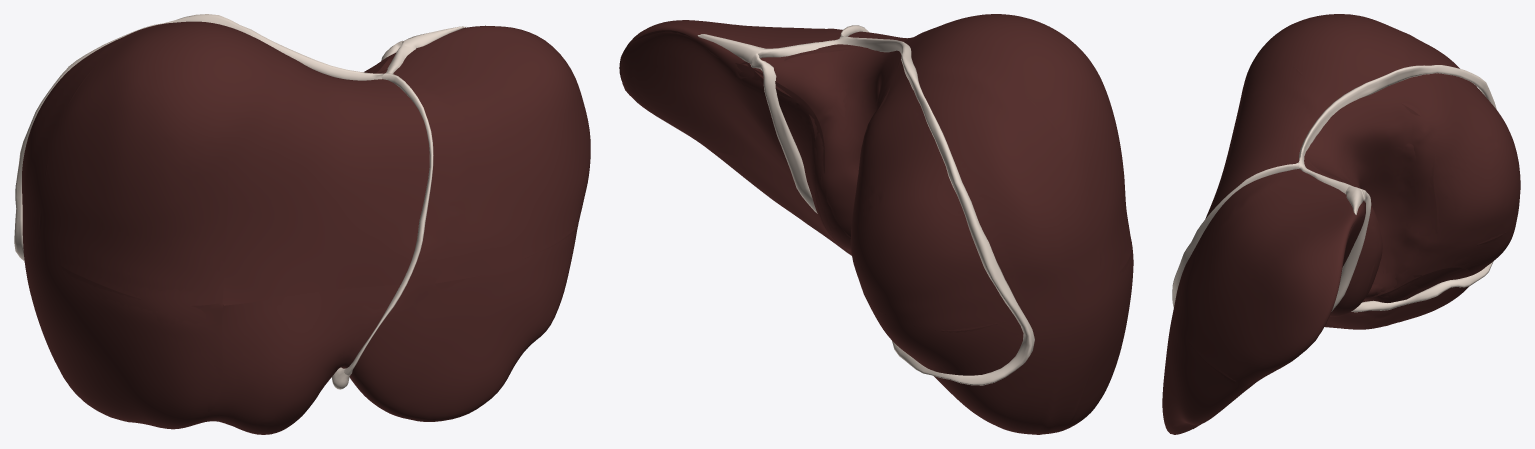
Rendered from liver-female.glb.
3 renders of one model, left to right at view 1: azimuth 30°, elevation 25°; view 2: azimuth 150°, elevation 25°; view 3: azimuth 270°, elevation 25°, orthographic. The views are drawn at different scales.
Visible parts, largest first — view 1: VH_F_capsule_of_the_liver, VH_F_left_superomedial_segment1, VH_F_left_inferomedial_segment, VH_F_right_anterosuperior_segment, VH_F_right_anteroinferior_segment, VH_F_coronary_ligament_of_liver, VH_F_left_superomedial_segment, VH_F_falciform_ligament, VH_F_left_anterolateral_segment; view 2: VH_F_capsule_of_the_liver, VH_F_bare_area_of_liver, VH_F_left_superomedial_segment, VH_F_coronary_ligament_of_liver, VH_F_diaphragmatic_surface_of_liver, VH_F_caudate_lobe, VH_F_right_posterosuperior_segment, VH_F_ligamentum_venosum, VH_F_gastric_impression_of_liver, VH_F_left_anterolateral_segment, VH_F_right_posteroinferior_segment, VH_F_right_anterosuperior_segment (+3 smaller); view 3: VH_F_capsule_of_the_liver, VH_F_bare_area_of_liver, VH_F_caudate_lobe, VH_F_coronary_ligament_of_liver, VH_F_left_superomedial_segment1, VH_F_right_posterosuperior_segment, VH_F_diaphragmatic_surface_of_liver, VH_F_left_superomedial_segment, VH_F_falciform_ligament, VH_F_ligamentum_venosum, VH_F_right_posteroinferior_segment, VH_F_suprarenal_impression_of_liver (+2 smaller).
Part boxes in pixels (<box>): VH_F_capsule_of_the_liver: <box>22,21,590,434</box>; VH_F_left_superomedial_segment1: <box>222,55,433,305</box>; VH_F_left_inferomedial_segment: <box>208,284,398,433</box>; VH_F_right_anterosuperior_segment: <box>38,23,278,305</box>; VH_F_right_anteroinferior_segment: <box>39,264,223,426</box>; VH_F_coronary_ligament_of_liver: <box>14,14,413,261</box>; VH_F_left_superomedial_segment: <box>380,29,581,284</box>; VH_F_falciform_ligament: <box>344,73,433,375</box>; VH_F_left_anterolateral_segment: <box>342,226,577,419</box>; VH_F_capsule_of_the_liver: <box>619,14,1133,434</box>; VH_F_bare_area_of_liver: <box>749,47,1023,375</box>; VH_F_left_superomedial_segment: <box>622,22,840,178</box>; VH_F_coronary_ligament_of_liver: <box>767,36,1034,385</box>; VH_F_diaphragmatic_surface_of_liver: <box>619,30,996,425</box>; VH_F_caudate_lobe: <box>778,47,899,250</box>; VH_F_right_posterosuperior_segment: <box>851,61,1101,331</box>; VH_F_ligamentum_venosum: <box>751,53,817,213</box>; VH_F_gastric_impression_of_liver: <box>668,74,851,255</box>; VH_F_left_anterolateral_segment: <box>716,151,829,234</box>; VH_F_right_posteroinferior_segment: <box>866,299,1101,434</box>; VH_F_right_anterosuperior_segment: <box>897,30,1132,282</box>; VH_F_capsule_of_the_liver: <box>1162,14,1472,434</box>; VH_F_bare_area_of_liver: <box>1306,74,1520,298</box>; VH_F_caudate_lobe: <box>1305,98,1439,315</box>; VH_F_coronary_ligament_of_liver: <box>1298,65,1496,312</box>; VH_F_left_superomedial_segment1: <box>1199,64,1323,240</box>; VH_F_right_posterosuperior_segment: <box>1393,31,1518,244</box>; VH_F_diaphragmatic_surface_of_liver: <box>1170,201,1494,433</box>; VH_F_left_superomedial_segment: <box>1176,172,1365,381</box>; VH_F_falciform_ligament: <box>1172,162,1298,307</box>; VH_F_ligamentum_venosum: <box>1331,189,1371,311</box>; VH_F_right_posteroinferior_segment: <box>1386,226,1513,325</box>; VH_F_suprarenal_impression_of_liver: <box>1399,267,1471,289</box>.
Size of the model in its own units: 1.44 by 0.9913 by 0.9697.
